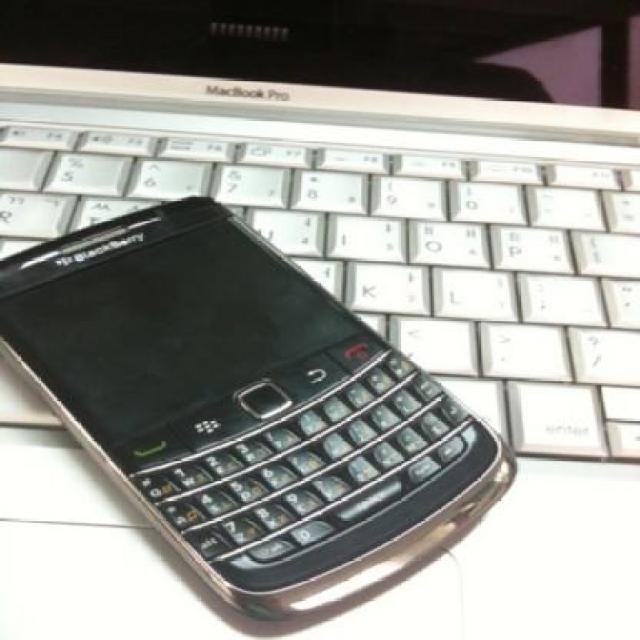phone: (6, 171, 520, 625)
